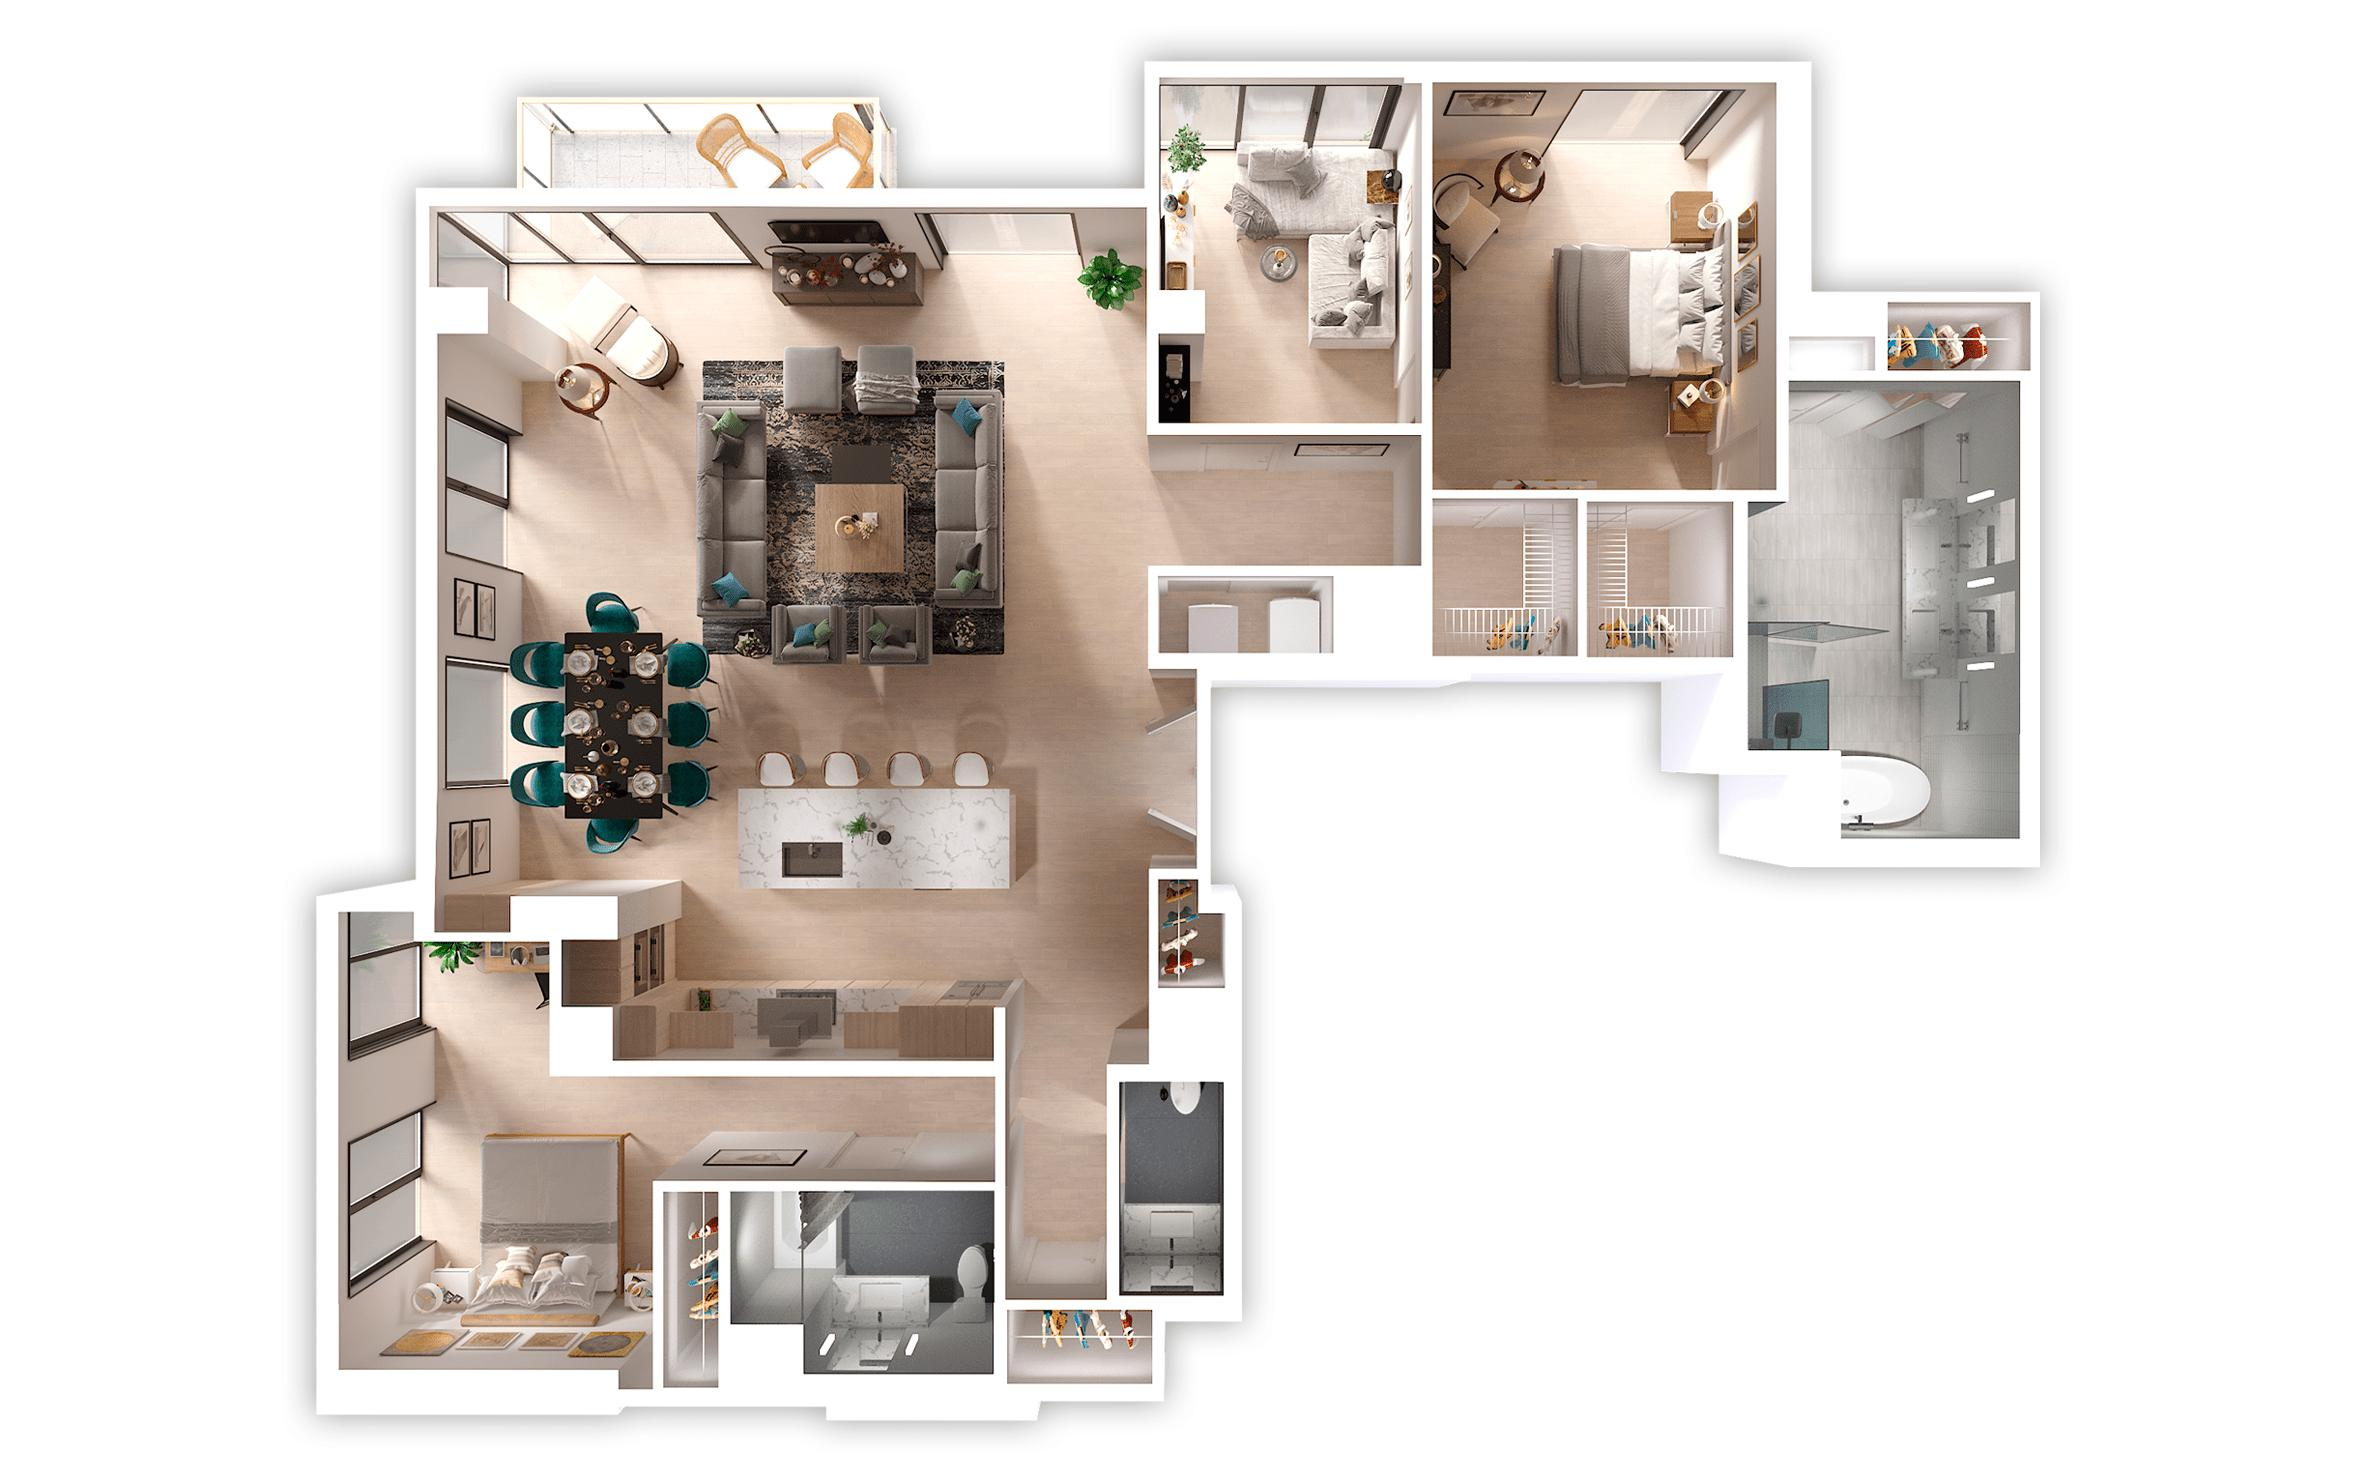room: (423, 199, 1149, 1066), (1425, 70, 1781, 493), (332, 904, 610, 1393), (1778, 380, 2030, 844), (1152, 72, 1422, 430), (658, 1183, 1001, 1400), (1115, 1076, 1233, 1304), (1584, 498, 1739, 662), (1429, 498, 1579, 660)
